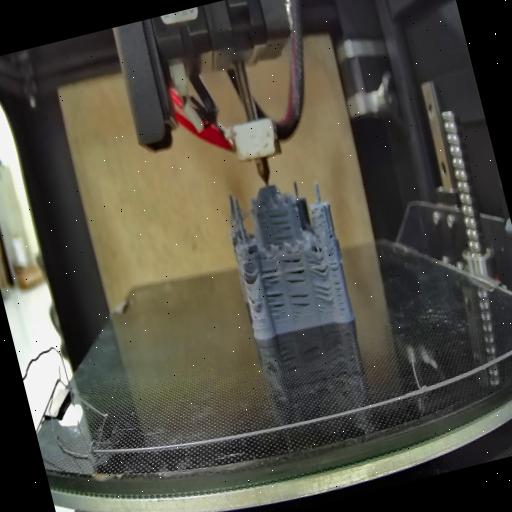cracks: (259, 266, 290, 324), (326, 251, 350, 313), (268, 208, 296, 247), (281, 254, 308, 288), (288, 289, 314, 320), (306, 253, 332, 280), (313, 282, 333, 307), (238, 264, 256, 286), (247, 290, 263, 314), (324, 224, 334, 242)
